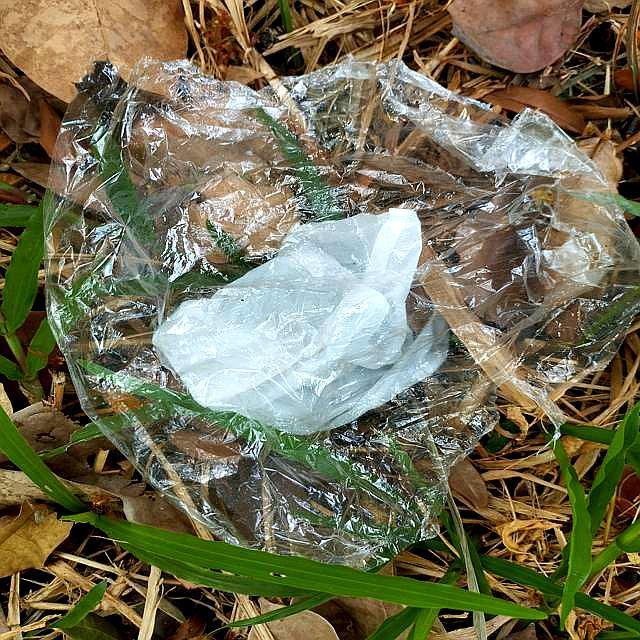Non-biodegradable: (43, 57, 640, 557)
